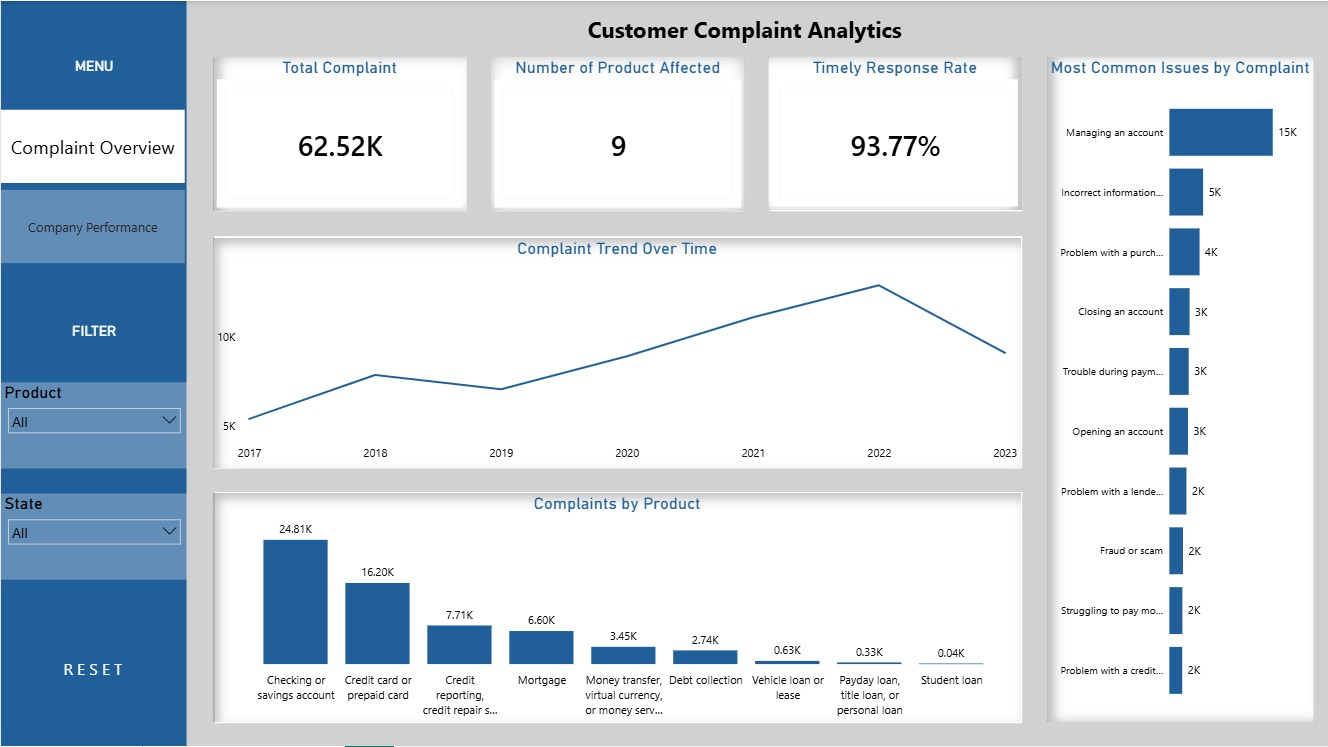

Layout of this report page (visuals, bound fields, positions):
{"tool":"powerbi","page":{"name":"Complaint Overview","canvas":[1980,1080],"ordinal":0},"visuals":[{"type":"cardVisual","title":"Total Complaint","fields":{"Data":["CountNonNull(Cleaned Data.Complaint ID)"]},"box":[307.6,81.4,365.6,222.6],"z":0},{"type":"cardVisual","title":"Number of Product Affected","fields":{"Data":["Count(Cleaned Data.Product)"]},"box":[726.7,80.9,379.5,223],"z":1000},{"type":"cardVisual","title":"Timely Response Rate","fields":{"Data":["Cleaned Data.Timely Response %"]},"box":[1156.6,80.9,363.3,223],"z":2000},{"type":"clusteredColumnChart","title":"Complaints by Product","fields":{"Category":["Cleaned Data.Product"],"Y":["CountNonNull(Cleaned Data.Complaint ID)"]},"box":[307.6,713,1169,331.2],"z":3000},{"type":"clusteredBarChart","title":"Most Common Issues by Complaint","fields":{"Category":["Cleaned Data.Issue"],"Y":["CountNonNull(Cleaned Data.Complaint ID)"]},"box":[1568.5,95.3,381.3,935.3],"z":4000},{"type":"lineChart","title":"Complaint Trend Over Time ","fields":{"Category":["Cleaned Data.Date submitted.Variation.Date Hierarchy.Year","Cleaned Data.Date submitted.Variation.Date Hierarchy.Quarter","Cleaned Data.Date submitted.Variation.Date Hierarchy.Month","Cleaned Data.Date submitted.Variation.Date Hierarchy.Day"],"Y":["CountNonNull(Cleaned Data.Complaint ID)"]},"box":[307.6,343.8,1169,333],"z":5000},{"type":"textbox","box":[785.4,14.5,582.7,81.4],"z":6000},{"type":"slicer","title":"State","fields":{"Values":["Cleaned Data.Full State Name"]},"box":[0,713,269.6,124.9],"z":7000},{"type":"slicer","title":"Product","fields":{"Values":["Cleaned Data.Product"]},"box":[0,551.9,269.6,124.9],"z":8000},{"type":"pageNavigator","box":[0,157.4,266,222.6],"z":9000},{"type":"textbox","title":"MENU","box":[0,81.4,269.6,61.5],"z":10000},{"type":"textbox","title":"FILTER","box":[0,465.1,269.6,61.5],"z":11000},{"type":"actionButton","box":[83.2,946.5,99.5,39.8],"z":12000}]}

Visuals, with their boxes on the page's 1980x1080 design canvas (x1, y1, x2, y2). These are canvas units, not pixel positions in the 1328x747 screenshot, which may show the page scaled, cropped or inside an application window:
"Total Complaint" cardVisual: (left=308, top=81, right=673, bottom=304)
"Number of Product Affected" cardVisual: (left=727, top=81, right=1106, bottom=304)
"Timely Response Rate" cardVisual: (left=1157, top=81, right=1520, bottom=304)
"Complaints by Product" clusteredColumnChart: (left=308, top=713, right=1477, bottom=1044)
"Most Common Issues by Complaint" clusteredBarChart: (left=1568, top=95, right=1950, bottom=1031)
"Complaint Trend Over Time " lineChart: (left=308, top=344, right=1477, bottom=677)
textbox: (left=785, top=14, right=1368, bottom=96)
"State" slicer: (left=0, top=713, right=270, bottom=838)
"Product" slicer: (left=0, top=552, right=270, bottom=677)
pageNavigator: (left=0, top=157, right=266, bottom=380)
"MENU" textbox: (left=0, top=81, right=270, bottom=143)
"FILTER" textbox: (left=0, top=465, right=270, bottom=527)
actionButton: (left=83, top=946, right=183, bottom=986)
